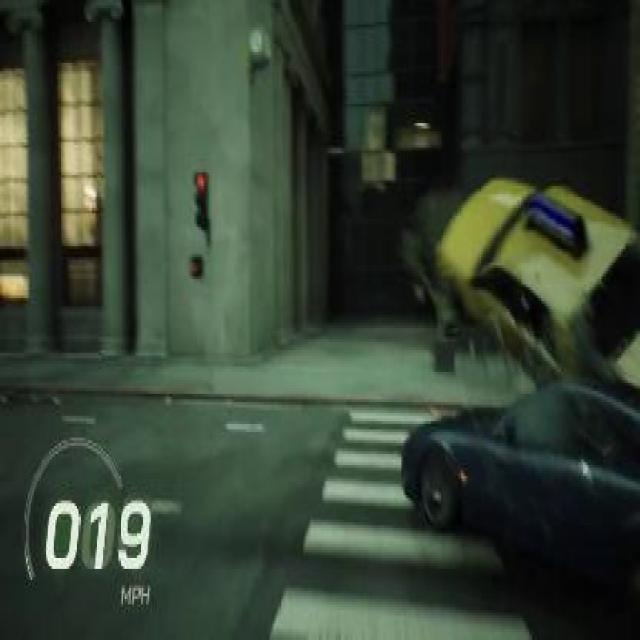accident: (398, 167, 638, 640)
